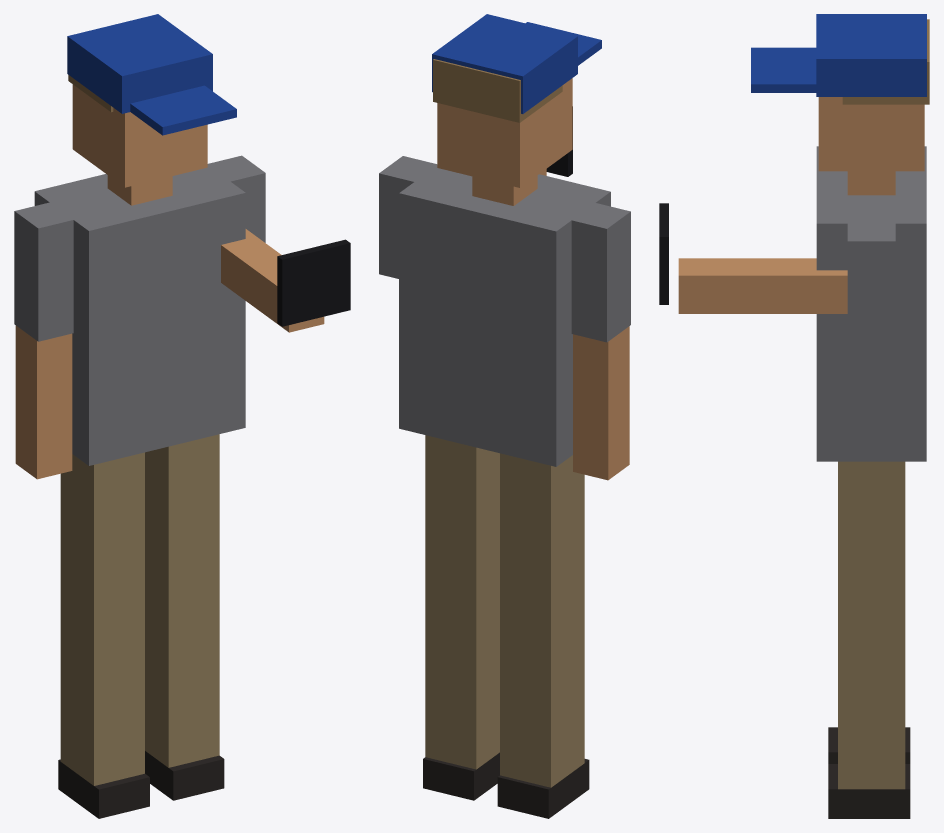
The model's file is fan_h.dae.
The picture shows the model from 3 angles, left to right: view 1: azimuth 30°, elevation 25°; view 2: azimuth 150°, elevation 25°; view 3: azimuth 270°, elevation 25°; orthographic projection.
Visible parts, largest first — view 1: marker; view 2: marker; view 3: marker.
Boxes of the visible parts, left/top/right/bottom form: marker: left=14, top=14, right=350, bottom=818; marker: left=379, top=14, right=630, bottom=818; marker: left=659, top=14, right=929, bottom=818.
Size of the model in its own units: 0.551 by 0.56 by 1.72.
